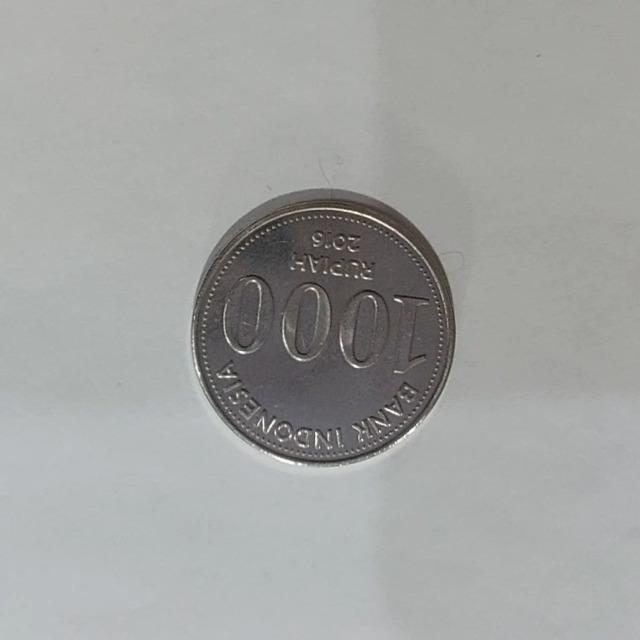Rp100: (188, 186, 457, 468)
